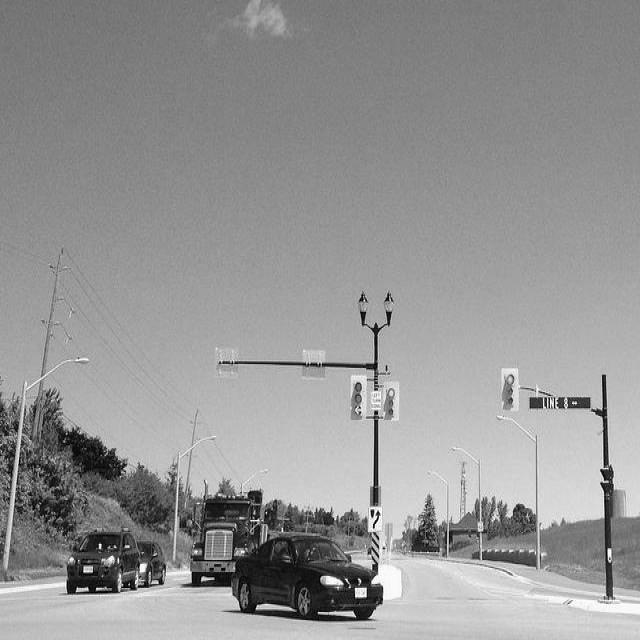vehicle: (230, 535, 384, 620), (190, 480, 268, 574), (66, 528, 141, 595), (137, 539, 167, 588)
